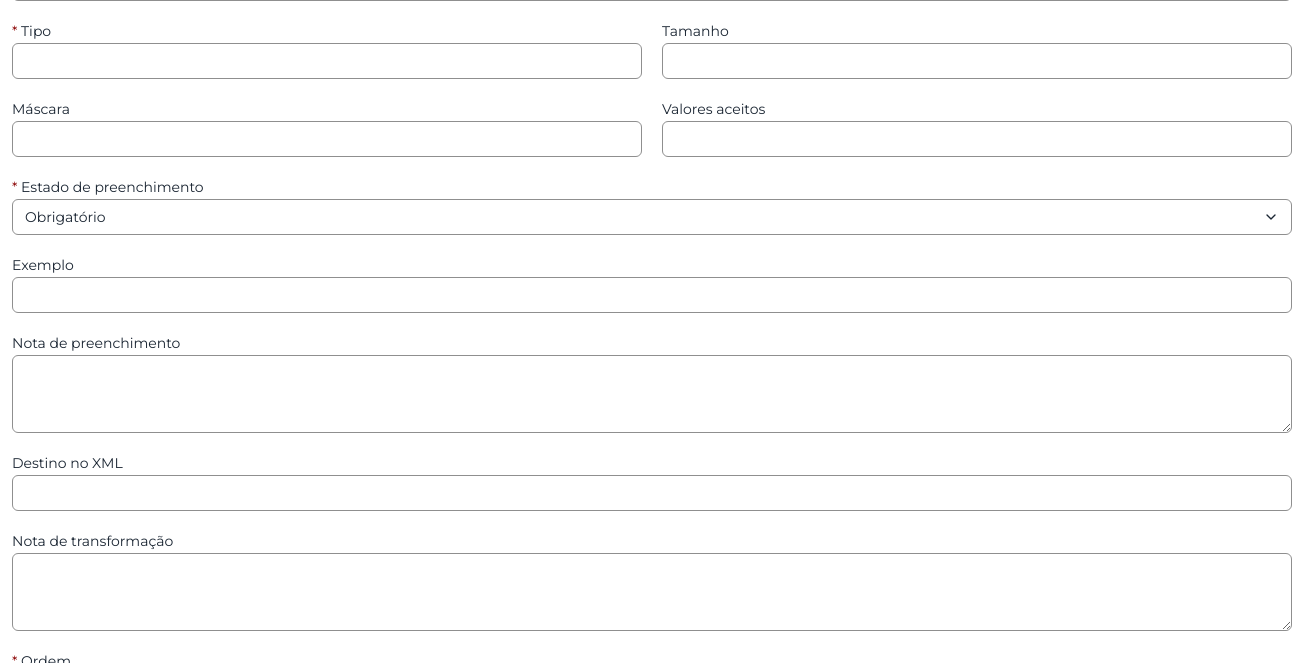
Test case: CampoVersaoForm › acusa erro em português quando o campo canônico não é selecionado
In the field labelled "* Tipo": (327, 61) [12, 43, 642, 79], type "Texto"
(page scrolled)
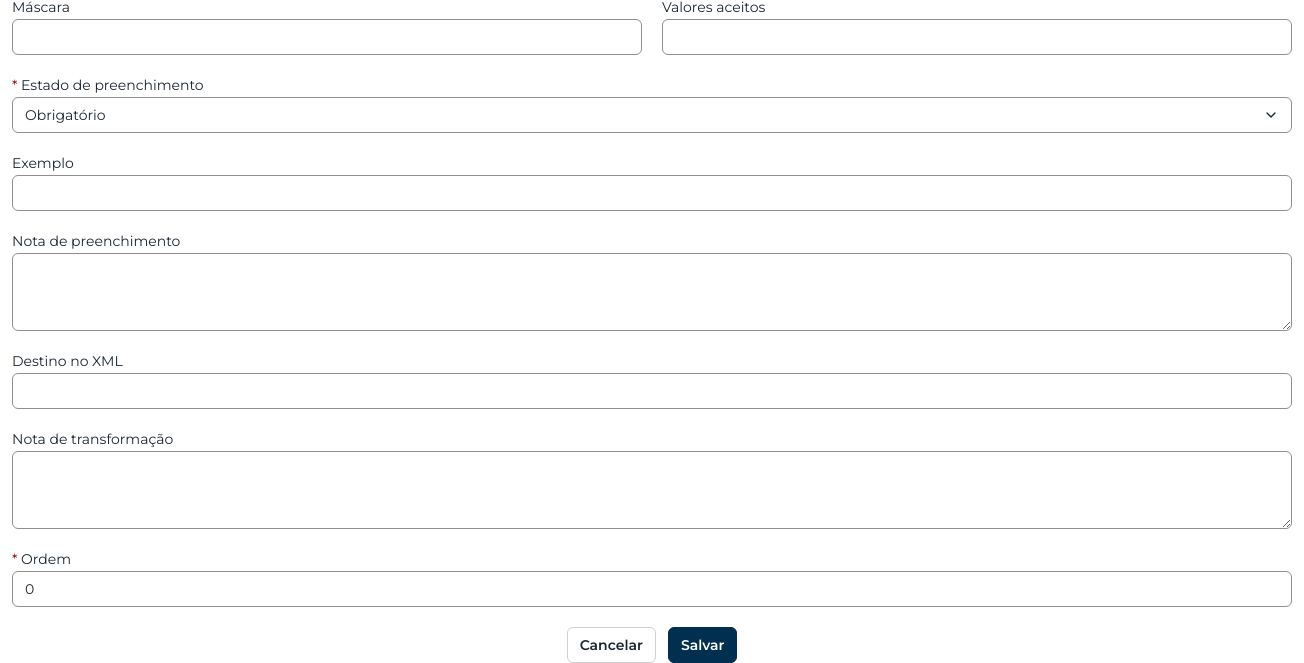
Click the button "Salvar": (703, 645) [668, 627, 737, 662]
(page scrolled)
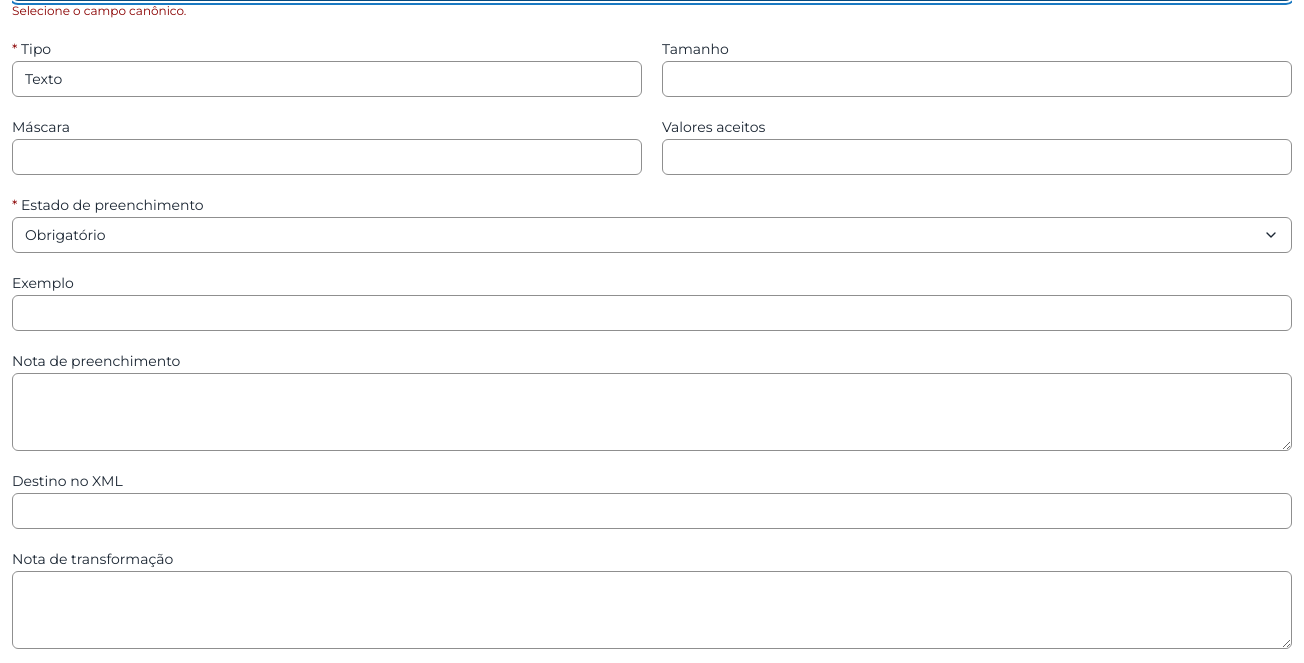
Expected: the text "Selecione o campo canônico." is shown, [12, 3, 186, 18]
